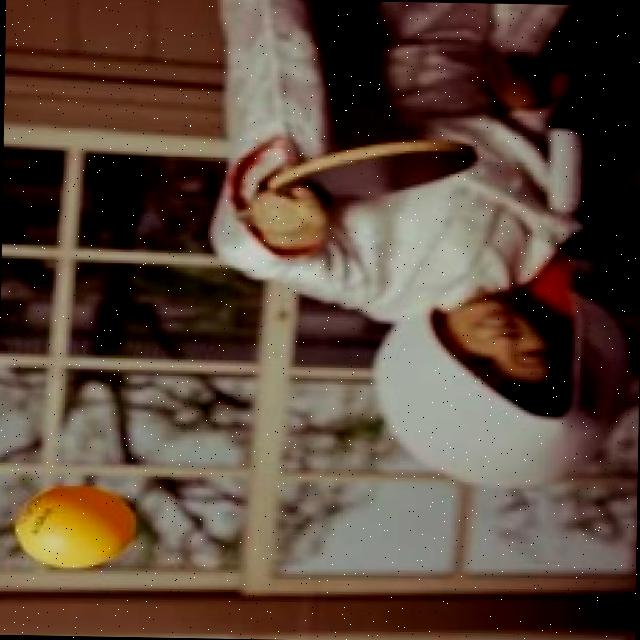ping-pong-ball: (15, 484, 138, 568)
